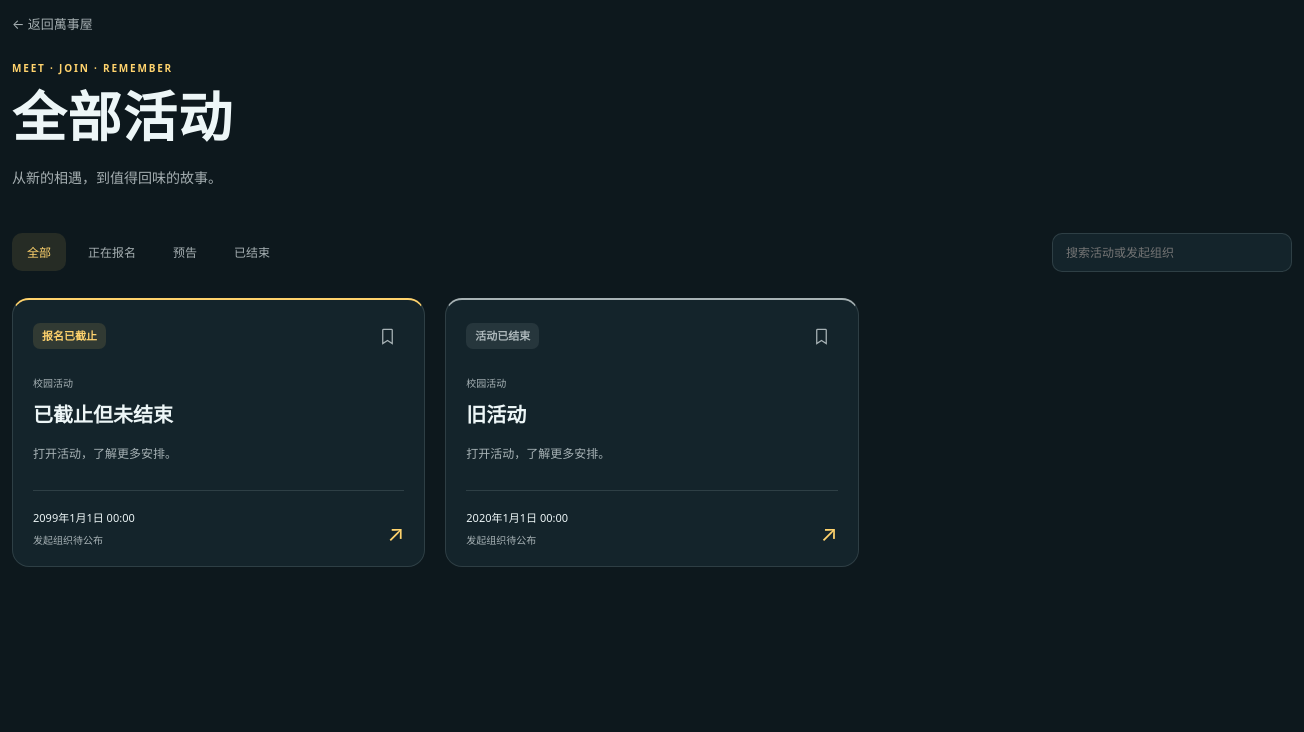
all activities catalog › loads archive, sorts recent first and keeps closed registration out of ended filter
Expected: the link "校园活动 已截止但未结束 打开活动，了解更多安排。 2099年1月1日 00:00 发起组织待公布 ↗" is shown, left=33, top=352, right=404, bottom=547
Expected: the element showing "报名已截止 校园活动 已截止但未结束 打开活动，了解更多安排。 2099年1月1日 00:00 发起组织待公布 ↗" is shown, left=12, top=298, right=425, bottom=567
Click the button named "关注：已截止但未结束".
click(388, 336)  # box left=371, top=320, right=404, bottom=352
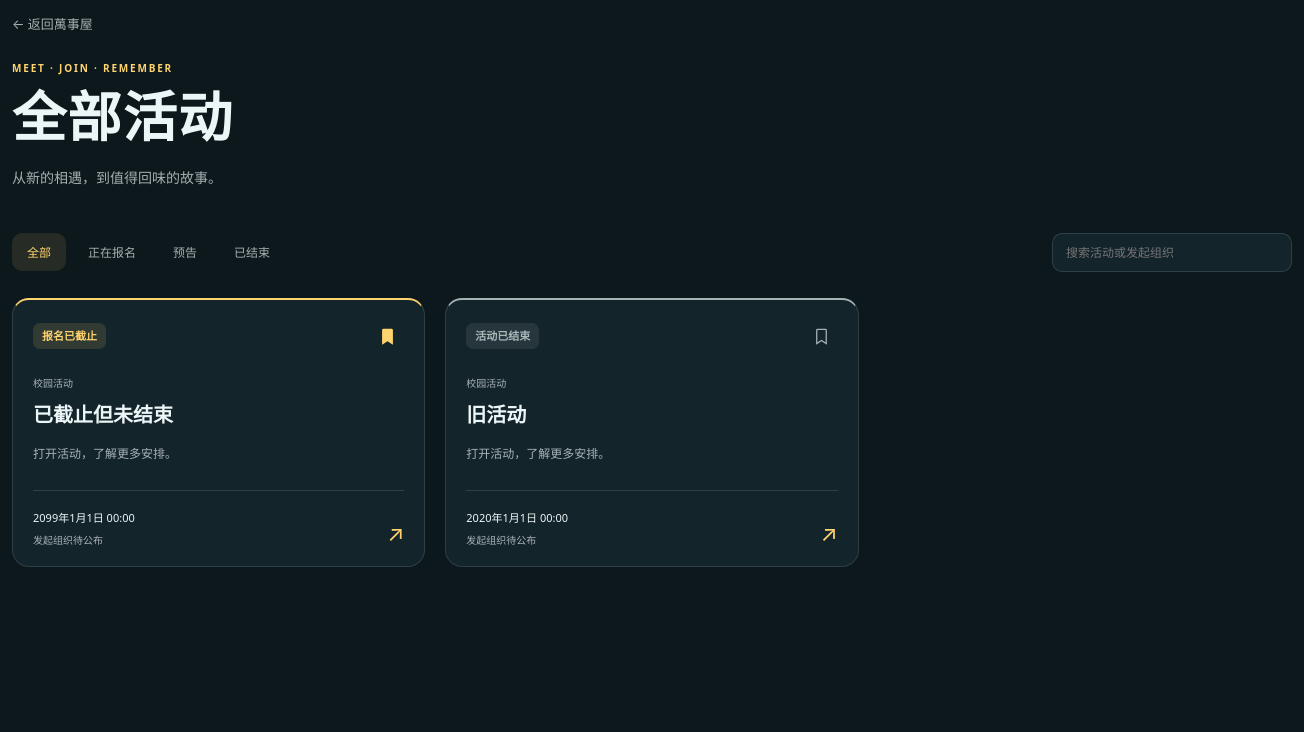
Now the button named "取消关注：已截止但未结束" is pressed, box left=371, top=320, right=404, bottom=352
Click the button "已结束".
click(252, 252)  # box left=219, top=233, right=285, bottom=271
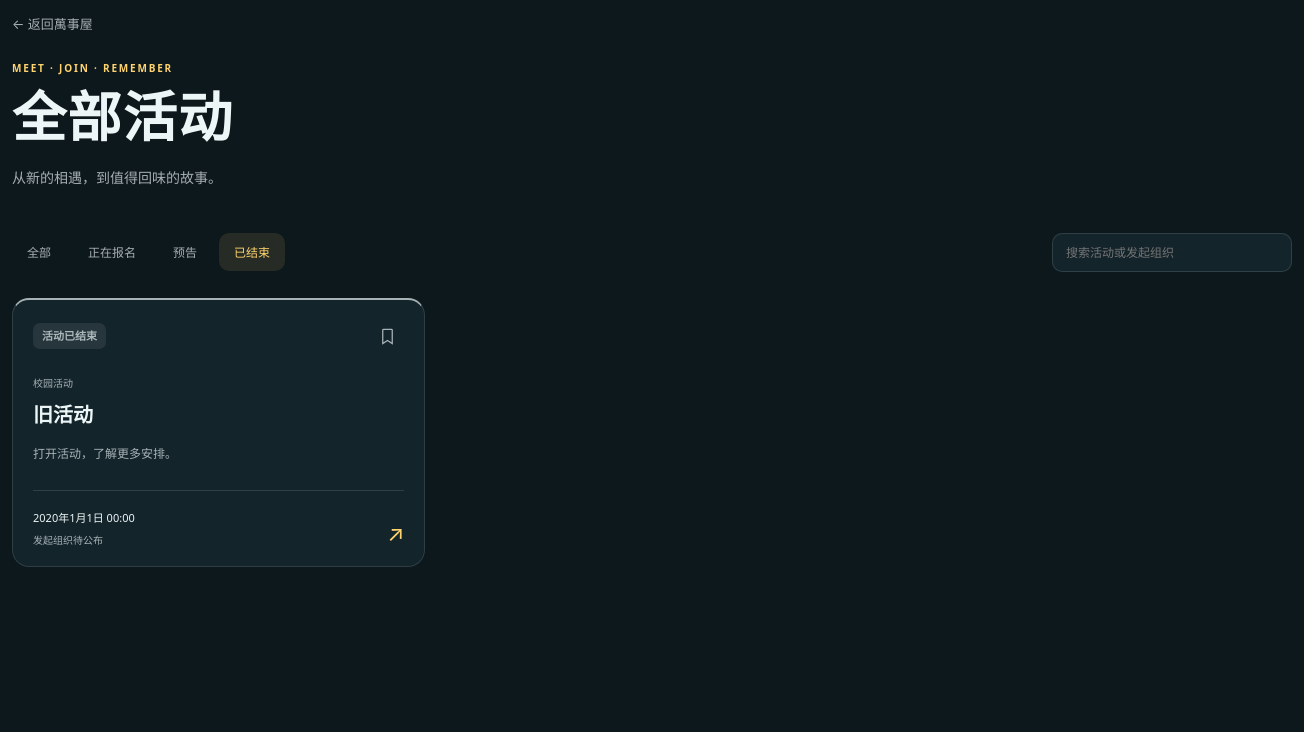
Expected: the link "校园活动 旧活动 打开活动，了解更多安排。 2020年1月1日 00:00 发起组织待公布 ↗" is shown, left=33, top=352, right=404, bottom=547
Now the link "已截止但未结束" is gone
